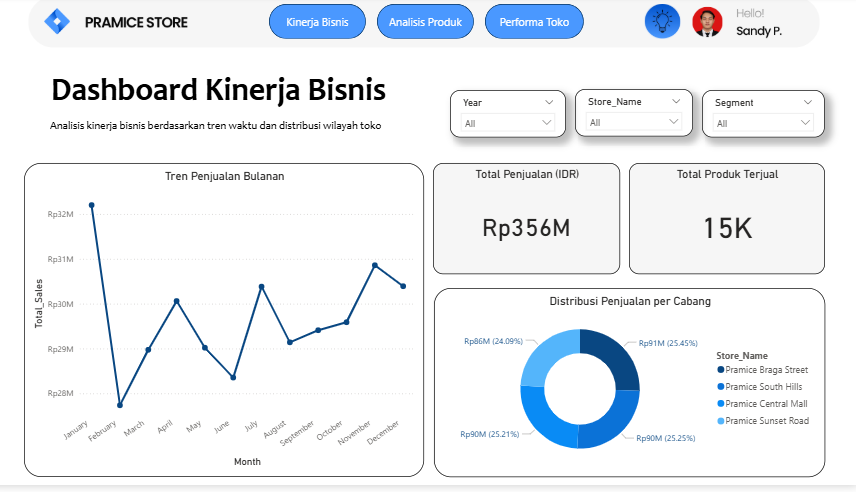

This screenshot's page, from the dashboard's own definition file:
{"tool":"powerbi","page":{"name":"(W) Executive Overview","canvas":[1280,720],"ordinal":0},"visuals":[{"type":"slicer","fields":{"Values":["Dim_Customer.Segment"]},"box":[1050,137.1,181.4,70],"z":0},{"type":"shape","box":[570.7,10,142.9,51.4],"z":1000},{"type":"shape","box":[730,10,145.7,51.4],"z":2000},{"type":"card","title":"Total Produk Terjual","fields":{"Values":["All Measure.Total_Quantity"]},"box":[942.9,244.3,288.6,164.3],"z":3000},{"type":"lineChart","title":"Tren Penjualan Bulanan","fields":{"Y":["All Measure.Total_Sales"],"Category":["Dim_Date.Date.Variation.Date Hierarchy.Month"]},"box":[50.1,244.8,589.9,463],"z":4000},{"type":"donutChart","title":"Distribusi Penjualan per Cabang","fields":{"Category":["Dim_Store.Store_Name"],"Y":["All Measure.Total_Sales"]},"box":[654.7,429.1,576.6,278.7],"z":5000},{"type":"slicer","fields":{"Values":["Dim_Store.Store_Name"]},"box":[862.9,135.7,174.3,70],"z":6000},{"type":"slicer","fields":{"Values":["Dim_Date.Year"]},"box":[678.6,137.1,171.4,70],"z":7000},{"type":"shape","box":[90,105.7,564.3,58.6],"z":9000},{"type":"shape","box":[88.6,171.4,564.3,35.7],"z":10000},{"type":"shape","box":[411.4,10,142.9,51.4],"z":11000},{"type":"image","box":[950,10,84.3,51.4],"z":12000},{"type":"card","title":"Total Penjualan (IDR)","fields":{"Values":["All Measure.Total_Sales"]},"box":[653.8,244.3,275.7,164.3],"z":13000}]}

Visuals, with their boxes in screenshot pixels (x1, y1, x2, y2), scaled from the page's 1280x720 canvas onto the 856x492 screenshot:
slicer - Dim_Customer.Segment: region(702, 94, 823, 142)
shape: region(382, 7, 477, 42)
shape: region(488, 7, 586, 42)
"Total Produk Terjual" card: region(631, 167, 824, 279)
"Tren Penjualan Bulanan" lineChart: region(34, 167, 428, 484)
"Distribusi Penjualan per Cabang" donutChart: region(438, 293, 823, 484)
slicer - Dim_Store.Store_Name: region(577, 93, 694, 141)
slicer - Dim_Date.Year: region(454, 94, 568, 142)
shape: region(60, 72, 438, 112)
shape: region(59, 117, 437, 142)
shape: region(275, 7, 371, 42)
image: region(635, 7, 692, 42)
"Total Penjualan (IDR)" card: region(437, 167, 622, 279)
